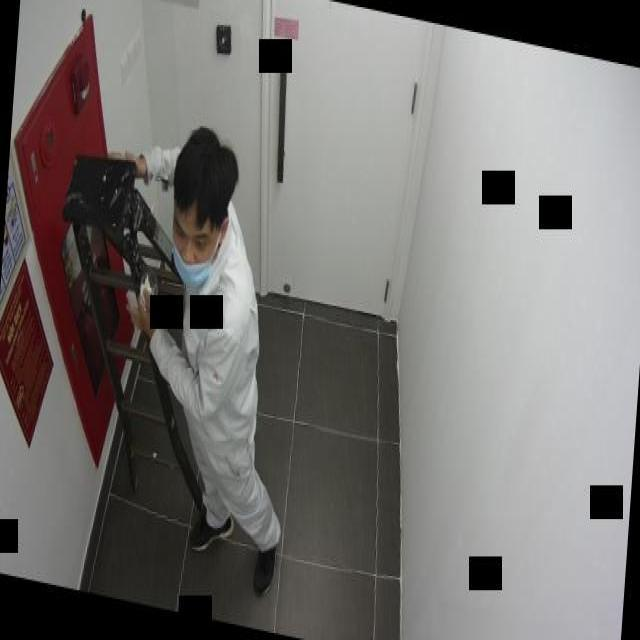hairnet: (172, 213, 215, 284)
